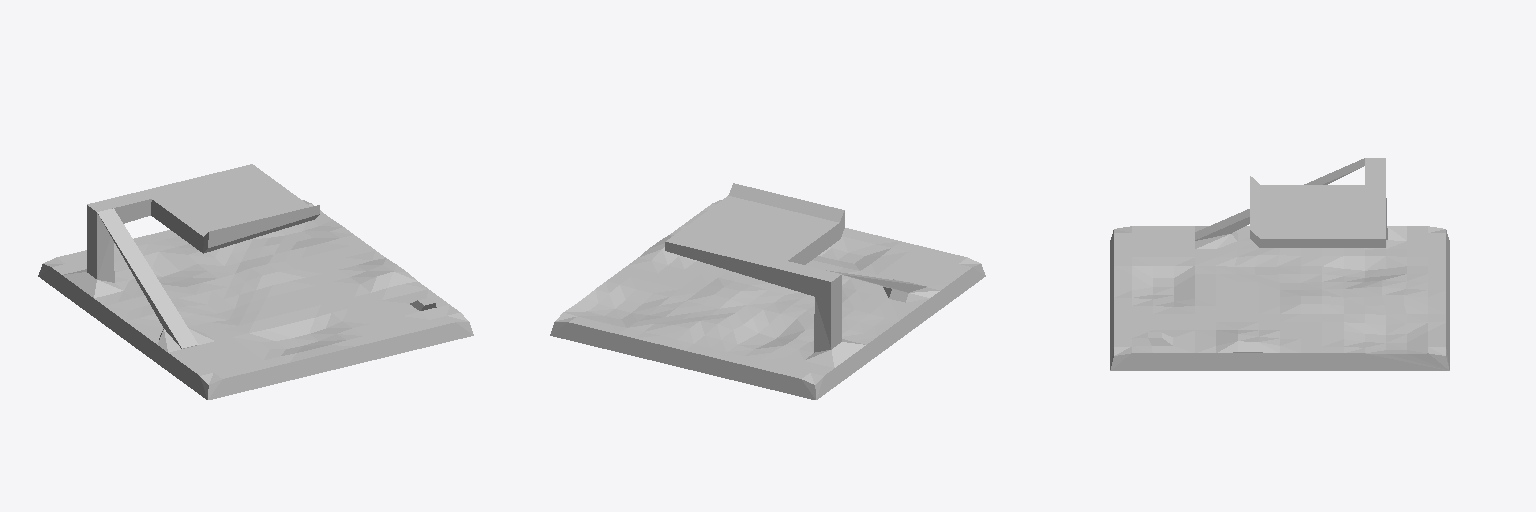
Rendered from test_map.obj.
3 renders of one model, left to right at view 1: azimuth 30°, elevation 25°; view 2: azimuth 150°, elevation 25°; view 3: azimuth 270°, elevation 25°, orthographic.
Size of the model in its own units: 5.64 by 2.03 by 6.23.